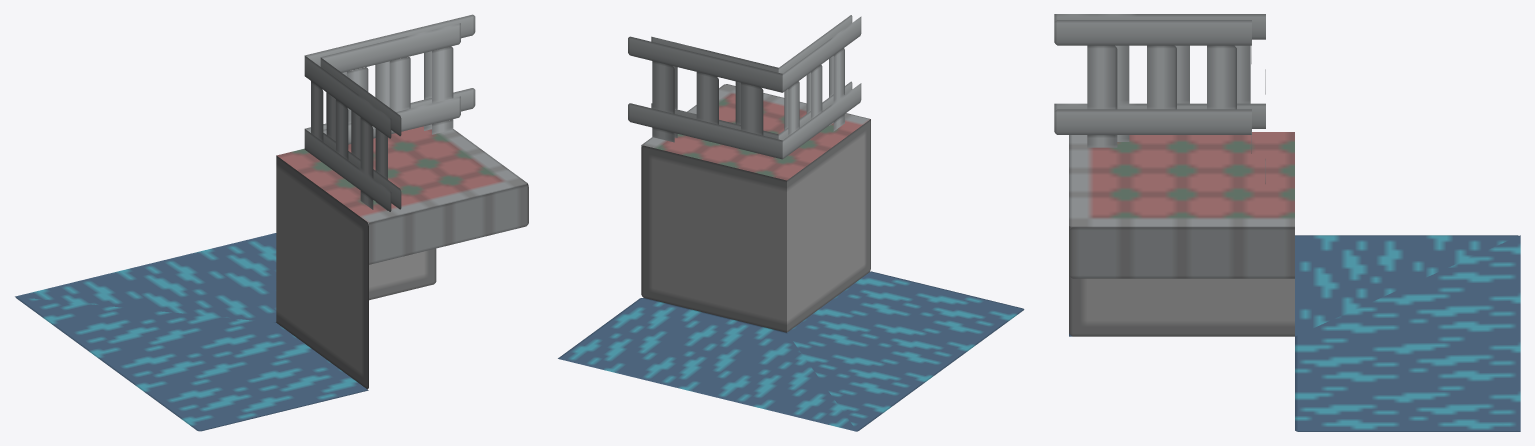
File: Lake Corner(1).fbx
3 renders of one model, left to right at view 1: azimuth 30°, elevation 25°; view 2: azimuth 150°, elevation 25°; view 3: azimuth 270°, elevation 25°, orthographic. The views are drawn at different scales.
Visible parts, largest first — view 1: plane, SideRoad, plane_1, plane_2; view 2: plane, plane_2, SideRoad, plane_1; view 3: plane, SideRoad, plane_1, plane_2.
Part boxes in pixels (box(x1,y1,x2,y2)): plane: box(15, 155, 436, 431); SideRoad: box(277, 126, 528, 264); plane_1: box(320, 23, 460, 210); plane_2: box(304, 14, 475, 211); plane: box(558, 120, 1024, 431); plane_2: box(628, 16, 861, 159); SideRoad: box(641, 84, 870, 180); plane_1: box(651, 15, 852, 140); plane: box(1069, 226, 1520, 431); SideRoad: box(1069, 132, 1294, 278); plane_1: box(1054, 20, 1251, 153); plane_2: box(1054, 14, 1265, 183).
Bounding box in the file's own units: 223 × 163 × 207.
Materials: 2 (2 with a texture image).
